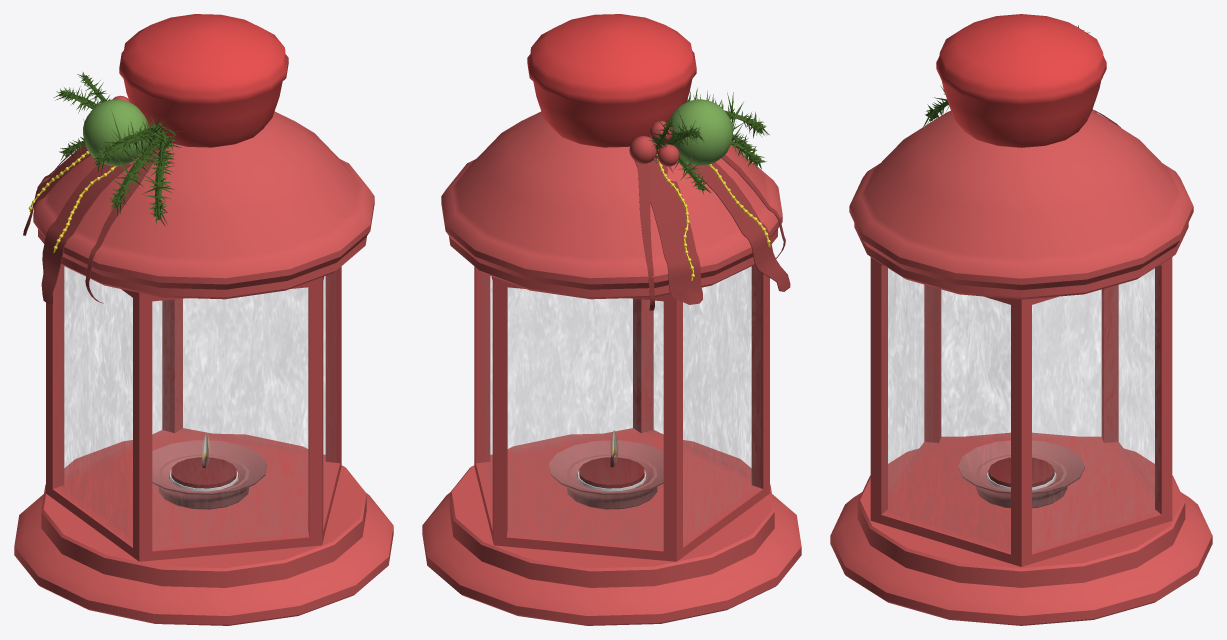
File: christmas_lantern_xyz_school_speed_draft_final.glb
3 renders of one model, left to right at view 1: azimuth 30°, elevation 25°; view 2: azimuth 150°, elevation 25°; view 3: azimuth 270°, elevation 25°, orthographic.
Visible parts, largest first — view 1: pCylinder3, pCylinder2, pCylinder1, pCube5, pCylinder4, pCube1, pCylinder8, pCube3, pPlane12, pCube6, pSphere1, pCube2 (+3 smaller); view 2: pCylinder2, pCylinder3, pCylinder1, pCube2, pCylinder4, pCube1, pCylinder8, pCube7, pCube4, pSphere1, pCube5, pCube6 (+6 smaller); view 3: pCylinder3, pCylinder2, pCylinder1, pCylinder4, pCube4, pCube3, pCylinder8, pCube1, pCube2, pCylinder9, pCube5.
Part boxes in pixels (bbox=[...]): pCylinder3: bbox=[33, 111, 374, 299]; pCylinder2: bbox=[46, 264, 341, 561]; pCylinder1: bbox=[14, 433, 393, 625]; pCube5: bbox=[153, 288, 308, 546]; pCylinder4: bbox=[119, 14, 288, 147]; pCube1: bbox=[60, 265, 132, 535]; pCylinder8: bbox=[152, 440, 266, 509]; pCube3: bbox=[182, 278, 324, 455]; pPlane12: bbox=[91, 112, 182, 226]; pCube6: bbox=[41, 163, 130, 304]; pSphere1: bbox=[83, 99, 148, 166]; pCube2: bbox=[65, 270, 163, 475]; pCylinder2: bbox=[474, 264, 769, 561]; pCylinder3: bbox=[441, 111, 782, 299]; pCylinder1: bbox=[422, 433, 801, 625]; pCube2: bbox=[507, 288, 662, 546]; pCylinder4: bbox=[527, 14, 696, 147]; pCube1: bbox=[683, 267, 756, 538]; pCylinder8: bbox=[549, 440, 663, 509]; pCube7: bbox=[634, 148, 702, 304]; pCube4: bbox=[491, 281, 633, 452]; pSphere1: bbox=[669, 99, 732, 166]; pCube5: bbox=[651, 267, 750, 473]; pCube6: bbox=[687, 162, 790, 291]; pCylinder3: bbox=[849, 111, 1193, 299]; pCylinder2: bbox=[870, 257, 1172, 566]; pCylinder1: bbox=[830, 432, 1212, 625]; pCylinder4: bbox=[936, 14, 1106, 147]; pCube4: bbox=[885, 268, 1010, 548]; pCube3: bbox=[1032, 269, 1157, 548]; pCylinder8: bbox=[958, 440, 1084, 508]; pCube1: bbox=[942, 290, 1101, 437]; pCube2: bbox=[1116, 270, 1154, 491]; pCylinder9: bbox=[987, 457, 1055, 489]; pCube5: bbox=[889, 274, 926, 485].
Bounding box in the file's own units: 5.87 × 8.75 × 5.85.
15 materials, 2 textured.
